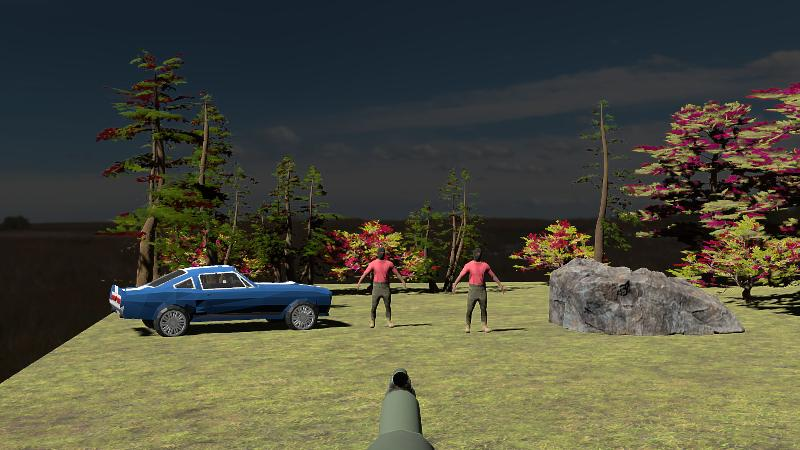Human: (453, 246, 504, 334), (357, 248, 405, 328)
car: (111, 263, 334, 338)
